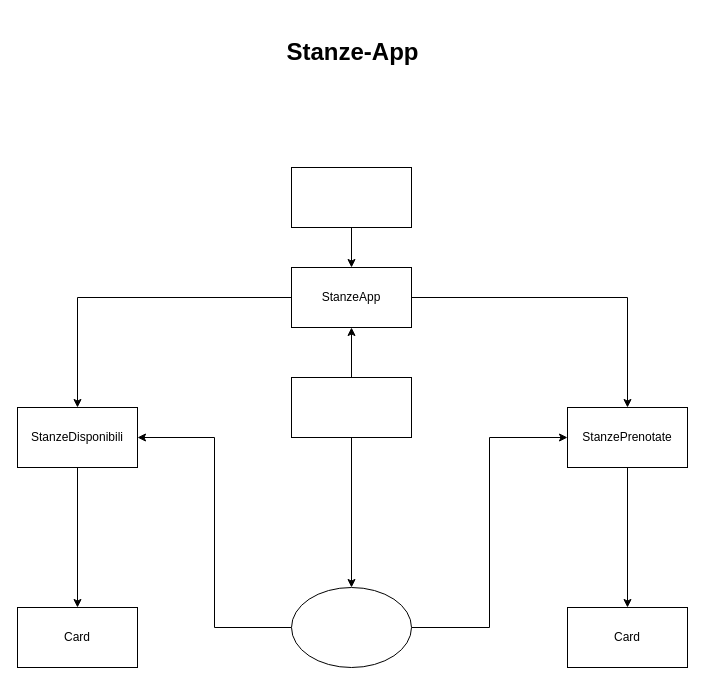
This 705x685 diagram has some shape labels left out. Here are the shapes that lost their labels. From the top down, the centre of each, then its label:
point 351,197: Header
point 351,407: Footer
point 351,627: StanzeService
